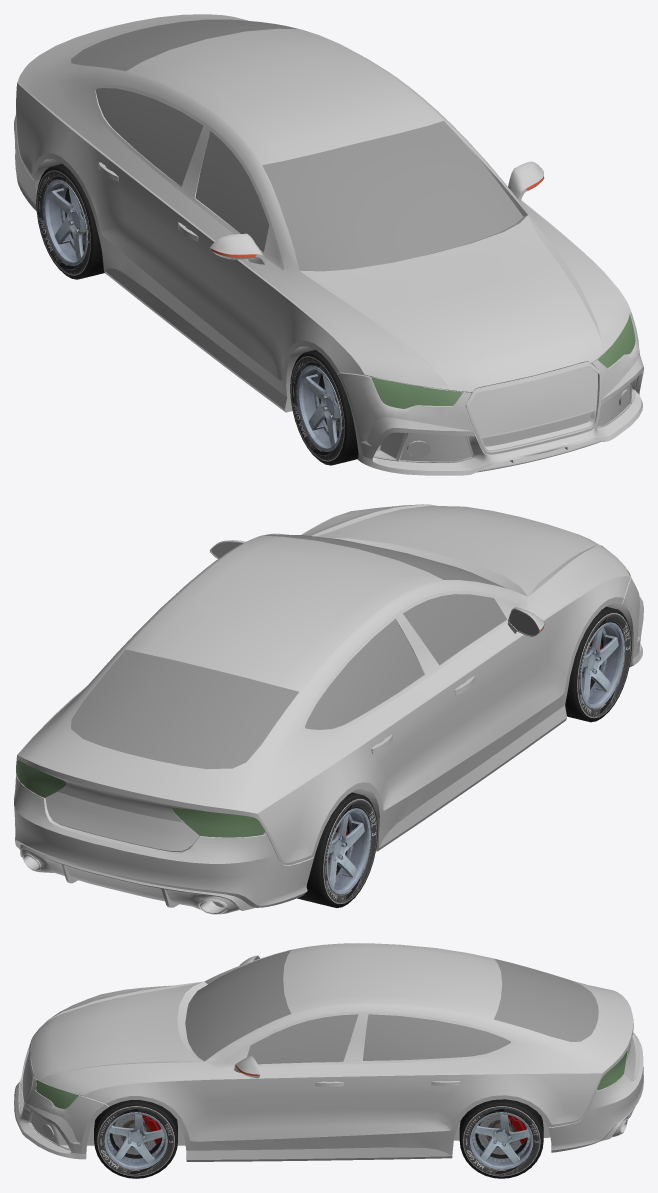
Rendered from sedan-car-01.fbx.
3 views of the same model, one above another, from view 1: azimuth 30°, elevation 25°; view 2: azimuth 150°, elevation 25°; view 3: azimuth 270°, elevation 25° (orthographic). The views are drawn at different scales.
Parts seen in each view (by area): view 1: body, tire1-fr, tire1-rr, rim-rr, rim-fr; view 2: body, tire1-rr, rim-rr, rim-fr, tire1-fr; view 3: body, tire1-rl, tire1-fl, rim-fl, rim-rl, disk-rl, disk-fl.
Part boxes in pixels (left/top/right/bottom): body: left=14, top=14, right=643, bottom=475; tire1-fr: left=290, top=350, right=358, bottom=465; tire1-rr: left=36, top=164, right=104, bottom=279; rim-rr: left=43, top=179, right=87, bottom=266; rim-fr: left=297, top=365, right=341, bottom=451; body: left=14, top=504, right=643, bottom=914; tire1-rr: left=297, top=792, right=377, bottom=907; rim-rr: left=326, top=808, right=370, bottom=894; rim-fr: left=580, top=622, right=624, bottom=708; tire1-fr: left=565, top=606, right=631, bottom=722; body: left=14, top=943, right=643, bottom=1161; tire1-rl: left=459, top=1099, right=543, bottom=1178; tire1-fl: left=94, top=1100, right=177, bottom=1178; rim-fl: left=104, top=1112, right=167, bottom=1169; rim-rl: left=470, top=1112, right=533, bottom=1169; disk-rl: left=478, top=1114, right=521, bottom=1154; disk-fl: left=112, top=1114, right=156, bottom=1154.
Size of the model in its own units: 2.16 by 1.38 by 4.96.
